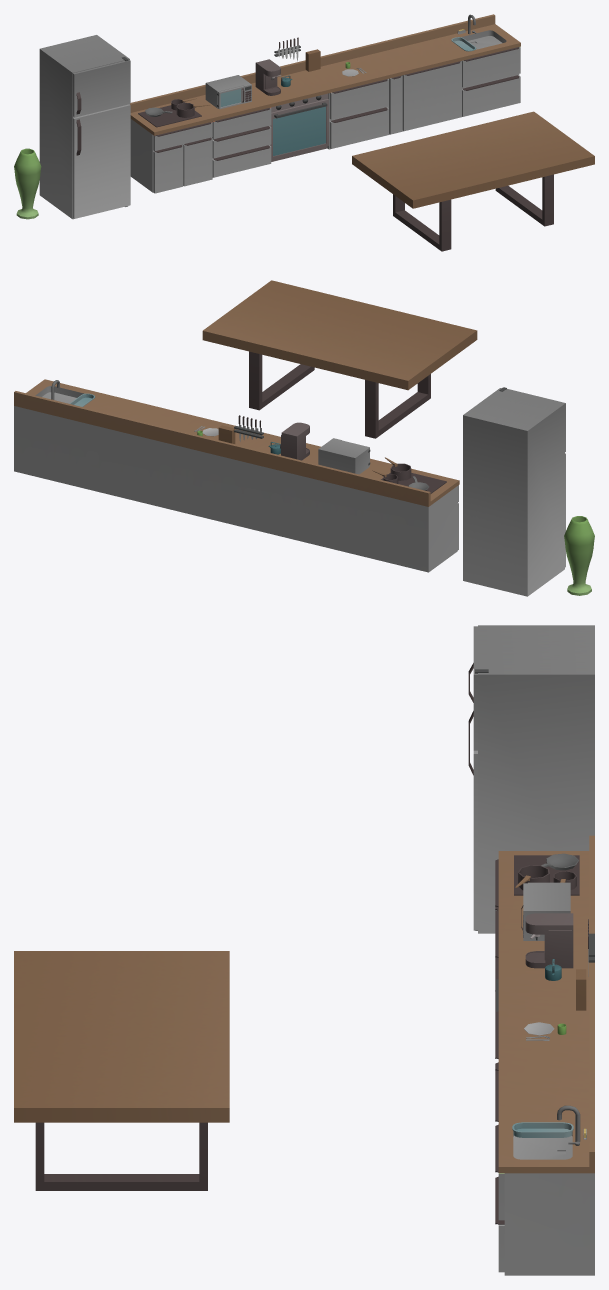
The model's file is CEM_Kit_1.fbx.
3 renders of one model, top to bottom at view 1: azimuth 30°, elevation 25°; view 2: azimuth 150°, elevation 25°; view 3: azimuth 270°, elevation 25°, orthographic. The views are drawn at different scales.
Parts seen in each view (by area): view 1: Kit_1_Table, Kit_1_Fridge, Kit_1_Block_A, Kit_1_Block_F, Kit_1_Block_G, Kit_1_Block_D, Kit_1_Block_B, Kit_1_Oven, Kit_1_Block_C, Kit_1_vase, Kit_1_Block_E, Kit_1_microwave (+3 smaller); view 2: Kit_1_Table, Kit_1_Fridge, Kit_1_Block_A, Kit_1_Block_F, Kit_1_Block_G, Kit_1_Block_D, Kit_1_Block_C, Kit_1_Block_B, Kit_1_vase, Kit_1_Block_E, Kit_1_microwave, Kit_1_CoffeeMachine (+1 smaller); view 3: Kit_1_Table, Kit_1_Fridge, Kit_1_Block_G, Kit_1_Block_F, Kit_1_Block_D, Kit_1_Block_C, Kit_1_Block_B, Kit_1_CoffeeMachine, Kit_1_Block_A, Kit_1_microwave, Kit_1_Block_E, Kit_1_SinkRack (+1 smaller).
Boxes of the visible parts, x1,y1,x2,y2 form: Kit_1_Table: (352,111,594,251); Kit_1_Fridge: (39,35,130,219); Kit_1_Block_A: (130,89,212,193); Kit_1_Block_F: (376,28,462,131); Kit_1_Block_G: (435,14,520,116); Kit_1_Block_D: (304,46,389,149); Kit_1_Block_B: (186,75,271,177); Kit_1_Oven: (270,93,328,161); Kit_1_Block_C: (245,61,330,106); Kit_1_vase: (14,148,41,219); Kit_1_Block_E: (362,43,403,134); Kit_1_microwave: (205,75,251,109); Kit_1_Table: (202,280,477,438); Kit_1_Fridge: (463,387,565,596); Kit_1_Block_A: (362,465,459,572); Kit_1_Block_F: (80,395,177,503); Kit_1_Block_G: (14,379,110,487); Kit_1_Block_D: (162,415,254,523); Kit_1_Block_C: (229,433,320,539); Kit_1_Block_B: (295,454,392,556); Kit_1_vase: (564,516,594,595); Kit_1_Block_E: (147,412,193,507); Kit_1_microwave: (318,438,370,474); Kit_1_CoffeeMachine: (281,422,309,460); Kit_1_Table: (14,951,229,1190); Kit_1_Fridge: (468,625,594,933); Kit_1_Block_G: (495,1101,594,1275); Kit_1_Block_F: (495,1050,594,1121); Kit_1_Block_D: (495,987,594,1074); Kit_1_Block_C: (498,952,594,1002); Kit_1_Block_B: (495,886,594,1012); Kit_1_CoffeeMachine: (525,913,573,968); Kit_1_Block_A: (495,835,594,910); Kit_1_microwave: (521,882,570,940); Kit_1_Block_E: (495,1038,594,1070); Kit_1_SinkRack: (512,1122,573,1137).
Size of the model in its own units: 694 by 197 by 400.
